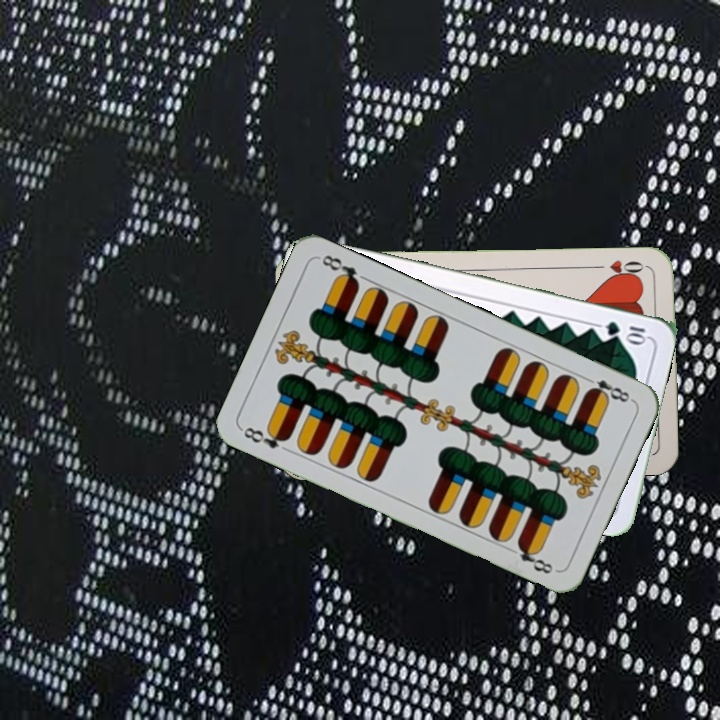E8: (580, 372, 635, 406), (238, 422, 293, 452)
G10: (601, 317, 650, 345)
HO: (590, 256, 649, 281)
